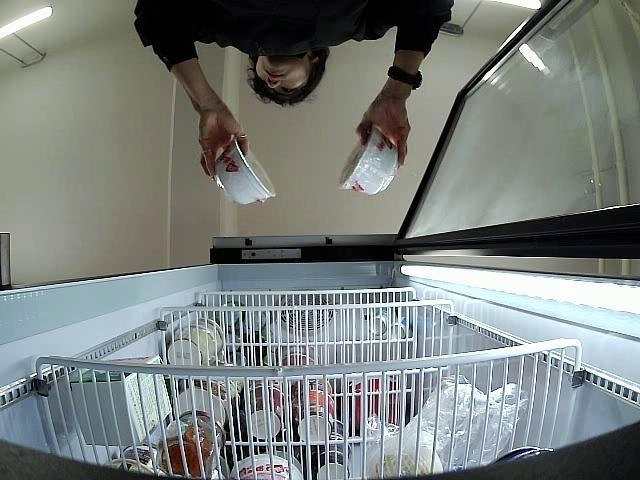09_yukGaeJang: (209, 137, 278, 206), (338, 128, 401, 195)
